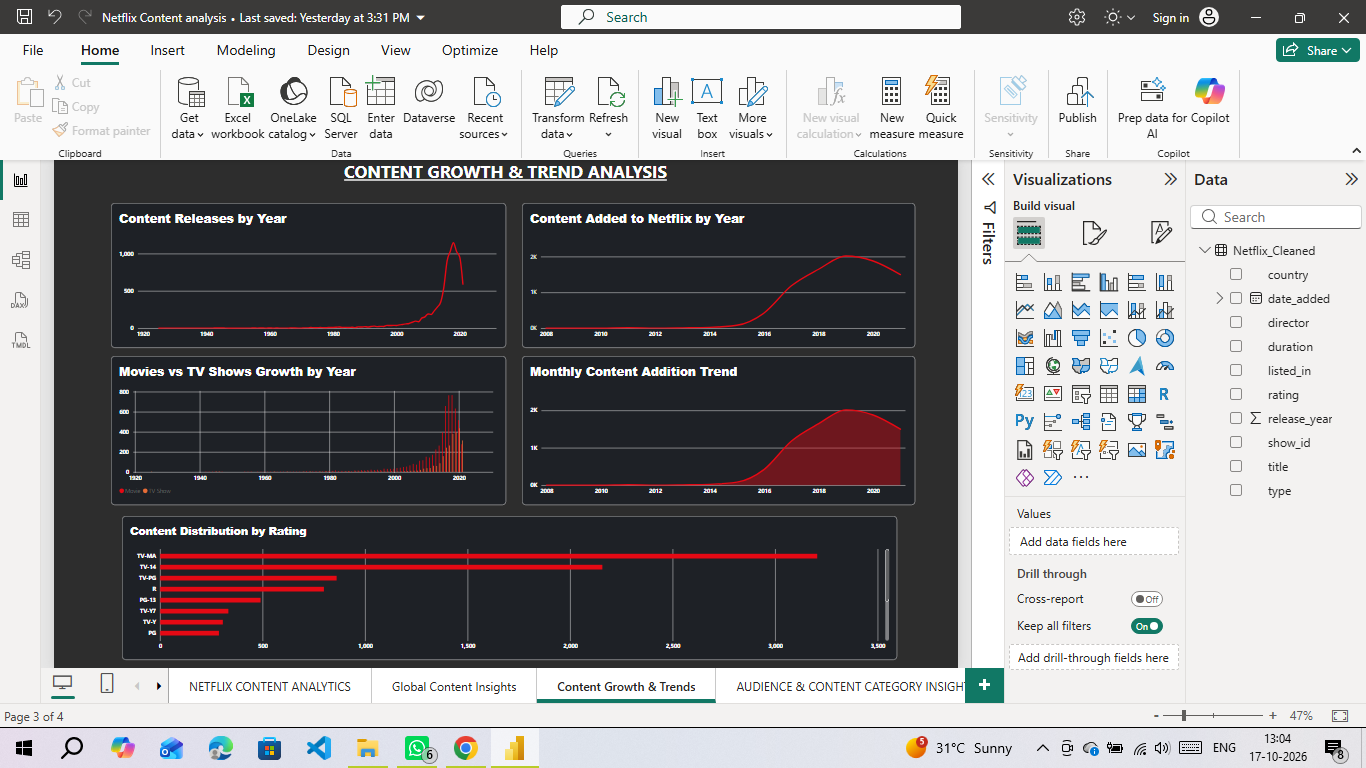

What the dashboard file says about the page in this screenshot:
{"tool":"powerbi","page":{"name":"Content Growth & Trends","canvas":[1920,1080],"ordinal":2},"visuals":[{"type":"lineChart","title":"Content Releases by Year","fields":{"Category":["Netflix_Cleaned.release_year"],"Y":["CountNonNull(Netflix_Cleaned.show_id)"]},"box":[121.2,91.4,839.8,308.3],"z":0},{"type":"lineChart","title":"Content Added to Netflix by Year","fields":{"Category":["Netflix_Cleaned.date_added.Variation.Date Hierarchy.Year"],"Y":["Count(Netflix_Cleaned.show_id)"]},"box":[995,91.4,835.5,308.3],"z":1000},{"type":"clusteredColumnChart","title":"Movies vs TV Shows Growth by Year","fields":{"Category":["Netflix_Cleaned.release_year"],"Series":["Netflix_Cleaned.type"],"Y":["Count(Netflix_Cleaned.show_id)"]},"box":[121.2,416.7,839.8,316.8],"z":2000},{"type":"areaChart","title":"Monthly Content Addition Trend","fields":{"Category":["Netflix_Cleaned.date_added.Variation.Date Hierarchy.Year","Netflix_Cleaned.date_added.Variation.Date Hierarchy.Month"],"Y":["Count(Netflix_Cleaned.show_id)"]},"box":[995,416.7,835.5,316.8],"z":3000},{"type":"clusteredBarChart","title":"Content Distribution by Rating","fields":{"Category":["Netflix_Cleaned.rating"],"Y":["Count(Netflix_Cleaned.show_id)"]},"box":[144.6,756.9,1647.6,306.1],"z":4000},{"type":"textbox","title":"CONTENT GROWTH & TREND ANALYSIS","box":[0,0,1919.8,127.6],"z":5000}]}

Visuals, with their boxes on the page's 1920x1080 design canvas (x1, y1, x2, y2). These are canvas units, not pixel positions in the 1366x768 screenshot, which may show the page scaled, cropped or inside an application window:
"Content Releases by Year" lineChart: Rect(121, 91, 961, 400)
"Content Added to Netflix by Year" lineChart: Rect(995, 91, 1830, 400)
"Movies vs TV Shows Growth by Year" clusteredColumnChart: Rect(121, 417, 961, 734)
"Monthly Content Addition Trend" areaChart: Rect(995, 417, 1830, 734)
"Content Distribution by Rating" clusteredBarChart: Rect(145, 757, 1792, 1063)
"CONTENT GROWTH & TREND ANALYSIS" textbox: Rect(0, 0, 1920, 128)
